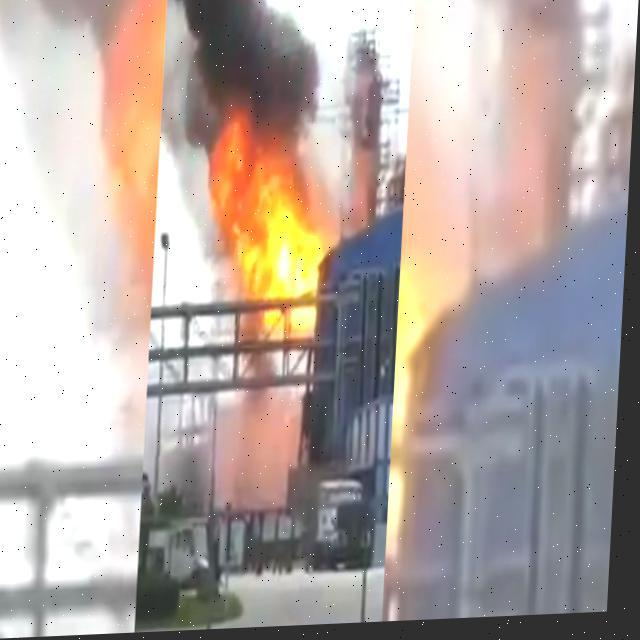Fire: (204, 146, 337, 346)
